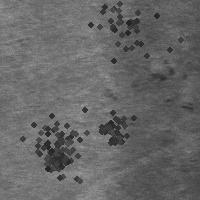rolled-in_scale: (67, 0, 169, 79), (12, 98, 98, 184), (123, 58, 195, 113), (82, 103, 134, 155), (34, 137, 74, 177)
